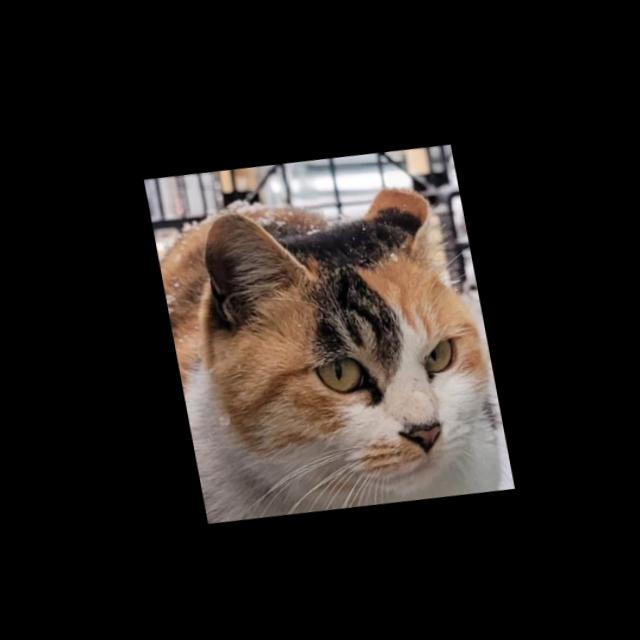animals: (178, 158, 513, 526)
